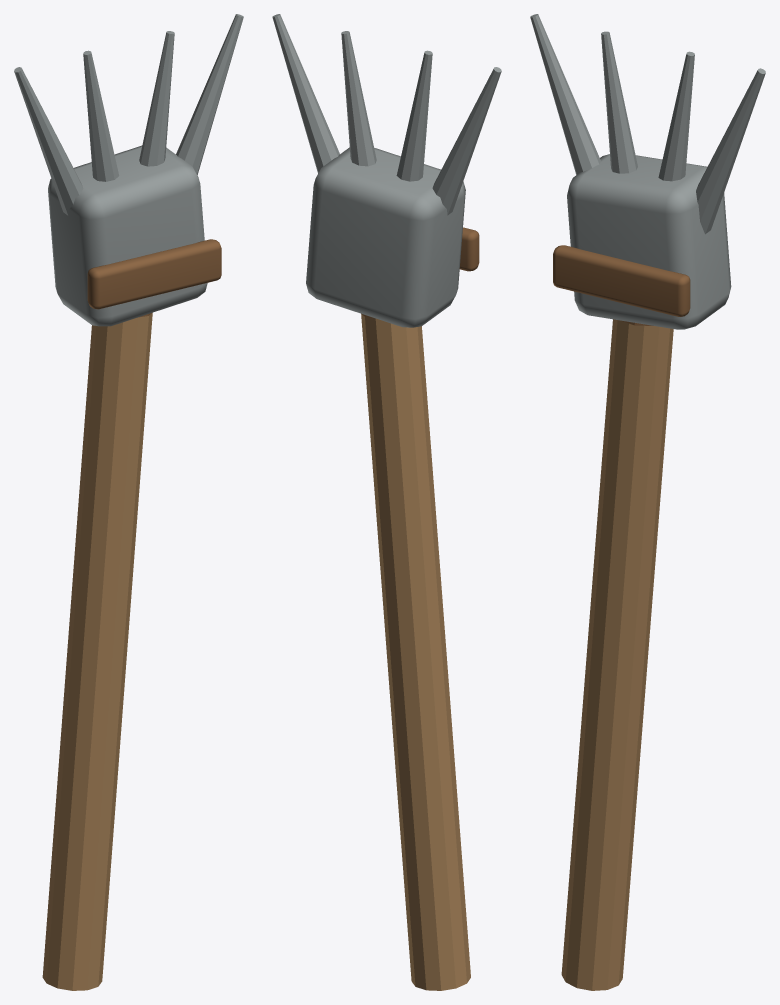
Rendered from forcado.glb.
3 views of the same model, side by side, from view 1: azimuth 30°, elevation 25°; view 2: azimuth 150°, elevation 25°; view 3: azimuth 330°, elevation 25° (orthographic). The views are drawn at different scales.
Parts seen in each view (by area): view 1: Cabo do forcado, Soquete do forcado, Anel do soquete, Dente do forcado 3, Dente do forcado 0, Dente do forcado 2, Dente do forcado 1; view 2: Cabo do forcado, Soquete do forcado, Dente do forcado 3, Dente do forcado 0, Dente do forcado 2, Dente do forcado 1, Anel do soquete; view 3: Cabo do forcado, Soquete do forcado, Anel do soquete, Dente do forcado 3, Dente do forcado 0, Dente do forcado 1, Dente do forcado 2.
Part boxes in pixels (bbox=[...]): Cabo do forcado: bbox=[42, 313, 152, 990]; Soquete do forcado: bbox=[48, 145, 207, 326]; Anel do soquete: bbox=[87, 239, 221, 309]; Dente do forcado 3: bbox=[176, 14, 243, 175]; Dente do forcado 0: bbox=[14, 67, 83, 215]; Dente do forcado 2: bbox=[139, 31, 174, 166]; Dente do forcado 1: bbox=[83, 50, 119, 181]; Cabo do forcado: bbox=[361, 314, 470, 990]; Soquete do forcado: bbox=[306, 147, 465, 327]; Dente do forcado 3: bbox=[272, 14, 339, 173]; Dente do forcado 0: bbox=[432, 67, 501, 215]; Dente do forcado 2: bbox=[341, 31, 376, 166]; Dente do forcado 1: bbox=[396, 50, 432, 181]; Anel do soquete: bbox=[459, 227, 479, 271]; Cabo do forcado: bbox=[561, 319, 673, 990]; Soquete do forcado: bbox=[567, 154, 731, 329]; Anel do soquete: bbox=[553, 245, 690, 316]; Dente do forcado 3: bbox=[696, 68, 765, 234]; Dente do forcado 0: bbox=[530, 14, 600, 174]; Dente do forcado 1: bbox=[601, 31, 637, 173]; Dente do forcado 2: bbox=[658, 51, 694, 181].
Size of the model in its own units: 0.247 by 0.9588 by 0.104.
